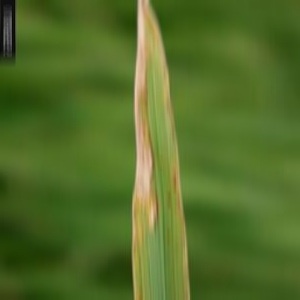Leaf_Blast: (127, 1, 193, 300)
